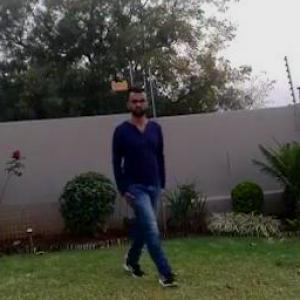follow: (101, 87, 166, 279)
